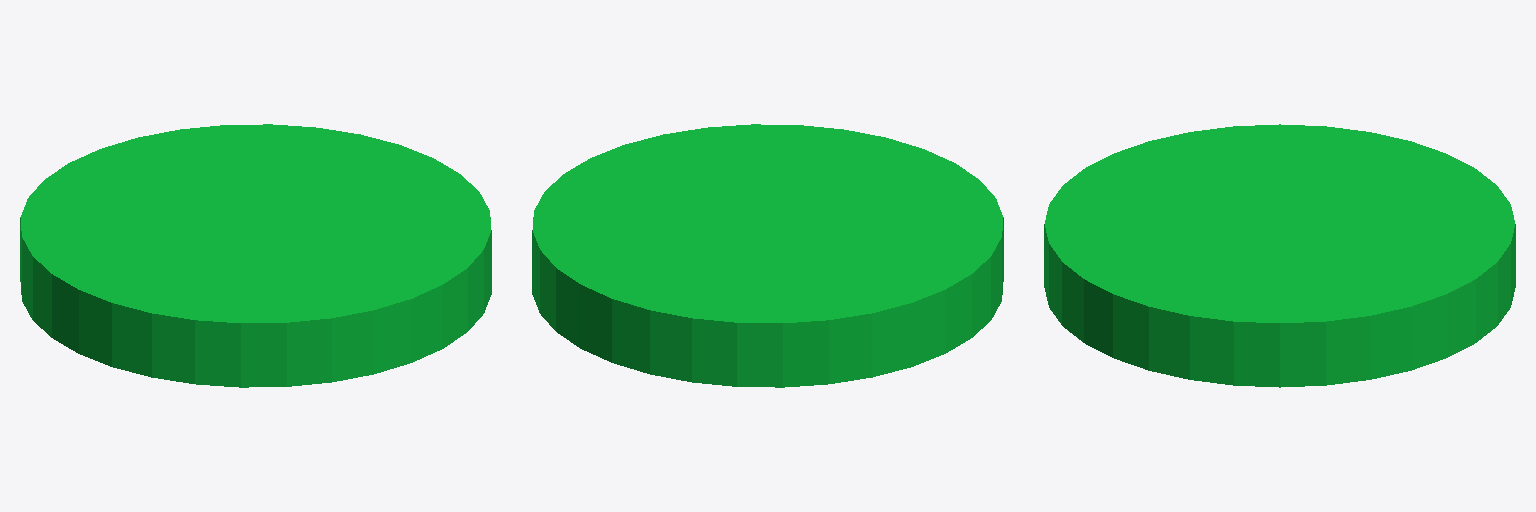
URDF robot description (TARS):
<?xml version="1.0"?> 

<robot name="TARS">
    <material name="black">
        <color rgba="1.0 1.0 1.0 1.0"/>
    </material>
    <material name="green">
        <color rgba="0.1 0.8 0.3 1.0"/>
    </material>

    <link name="base_footprint"/>
    <link name="base">
        <visual>
            <geometry>
                <cylinder radius="0.2" length="0.06"/>
            </geometry>
            <material name="green"/>
            <origin xyz="0.0 0.0 0.0" rpy="0.0 0.0 0.0"/> 
        </visual>
        
        <collision>
            <geometry>
                <cylinder radius="0.2" length="0.06"/>        
            </geometry>
            <origin xyz="0.0 0.0 0.0" rpy="0.0 0.0 0.0"/>
        </collision>
    </link>

    <link name="rueda1">
        <visual>
            <geometry>
                <cylinder radius="0.03" length="0.06"/>
            </geometry>
            <material name="black"/>
            <origin xyz="0.0 0.0 0.0" rpy="0.0 1.5704 0.0"/> 
        </visual>
        <collision>
            <geometry>
                <cylinder radius="0.03" length="0.06"/>        
            </geometry>
            <origin xyz="0.0 0.0 0.0" rpy="0.0 1.5704 0.0"/>
        </collision>
    </link>

    <link name="rueda2">
        <visual>
            <geometry>
                <cylinder radius="0.03" length="0.06"/>
            </geometry>
            <material name="black"/>
            <origin xyz="0.0 0.0 0.0" rpy="1.5704 0.0 0.0"/> 
        </visual>
        <collision>
            <geometry>
                <cylinder radius="0.03" length="0.06"/>        
            </geometry>
            <origin xyz="0.0 0.0 0.0" rpy="1.5704 0.0 0.0"/>
        </collision>
    </link>

    <joint name="base_joint" type="fixed">
        <parent link="base_footprint"/>
        <child link="base"/>
        <origin xyz="0.0 0.0 0.03" rpy="0.0 0.0 0.0"/>
    </joint>
    
    <joint name="rueda1_joint" type="continuous">
        <parent link="base"/>
        <child link="rueda1"/>
        <origin xyz="-0.1 0.0 -0.03" rpy="0.0 0.0 0.0"/>
        <axis xyz="0 1 0"/>
    </joint>
    <joint name="rueda2_joint" type="continuous">
        <parent link="base"/>
        <child link="rueda2"/>
        <origin xyz="0.1 0.0 -0.03" rpy="0.0 0.0 0.0"/>
        <axis xyz="0 1 0"/>
    </joint>

</robot>

--- Facts derived from the render (not from the file) ---
3 views of the same robot in one strip: view 1: azimuth 30°, elevation 25°; view 2: azimuth 150°, elevation 25°; view 3: azimuth 270°, elevation 25° (orthographic).
Model TARS with 4 links and 3 joints (2 continuous, 1 fixed), rooted at base_footprint, posed all joints at 0.
Visible links, largest first — view 1: base; view 2: base; view 3: base.
Link boxes in pixels (<box>): base: <box>20,124,491,387</box>; base: <box>532,124,1003,387</box>; base: <box>1044,124,1515,387</box>.
Size in the robot's own frame: 0.4 by 0.4 by 0.09 metres.
Geometry: primitives only (box / cylinder / sphere), no mesh files.
